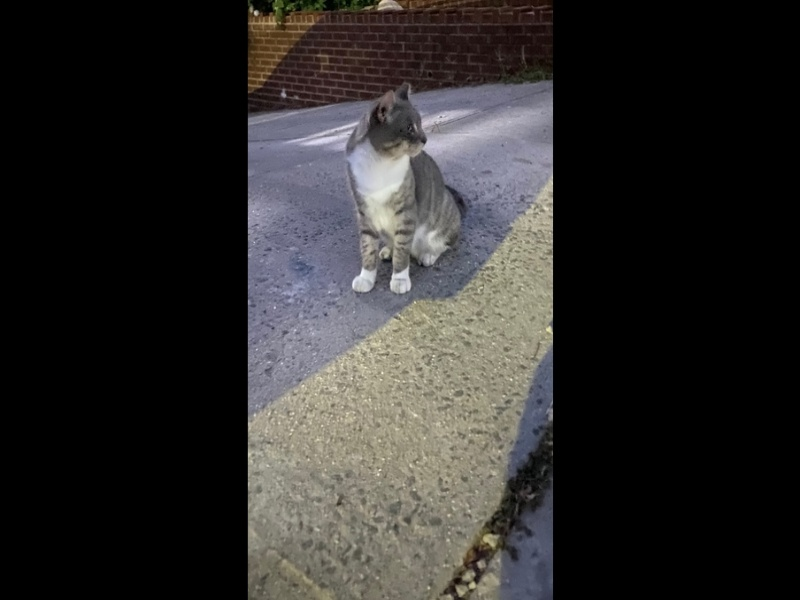cat: (343, 82, 468, 298)
